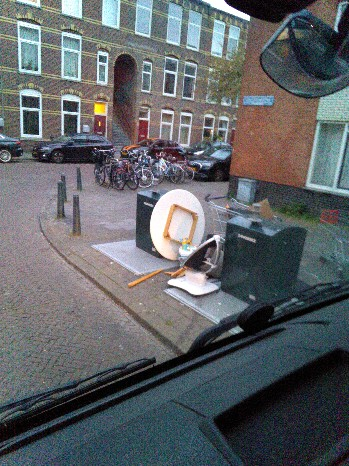Container: (231, 213, 287, 304), (136, 187, 154, 259)
Rest: (159, 189, 203, 249), (316, 208, 349, 267), (177, 269, 211, 303), (207, 190, 238, 224)
Voertuig: (29, 129, 125, 169), (184, 139, 239, 182), (144, 143, 178, 185), (114, 148, 148, 185), (139, 129, 182, 157), (92, 154, 119, 187)
